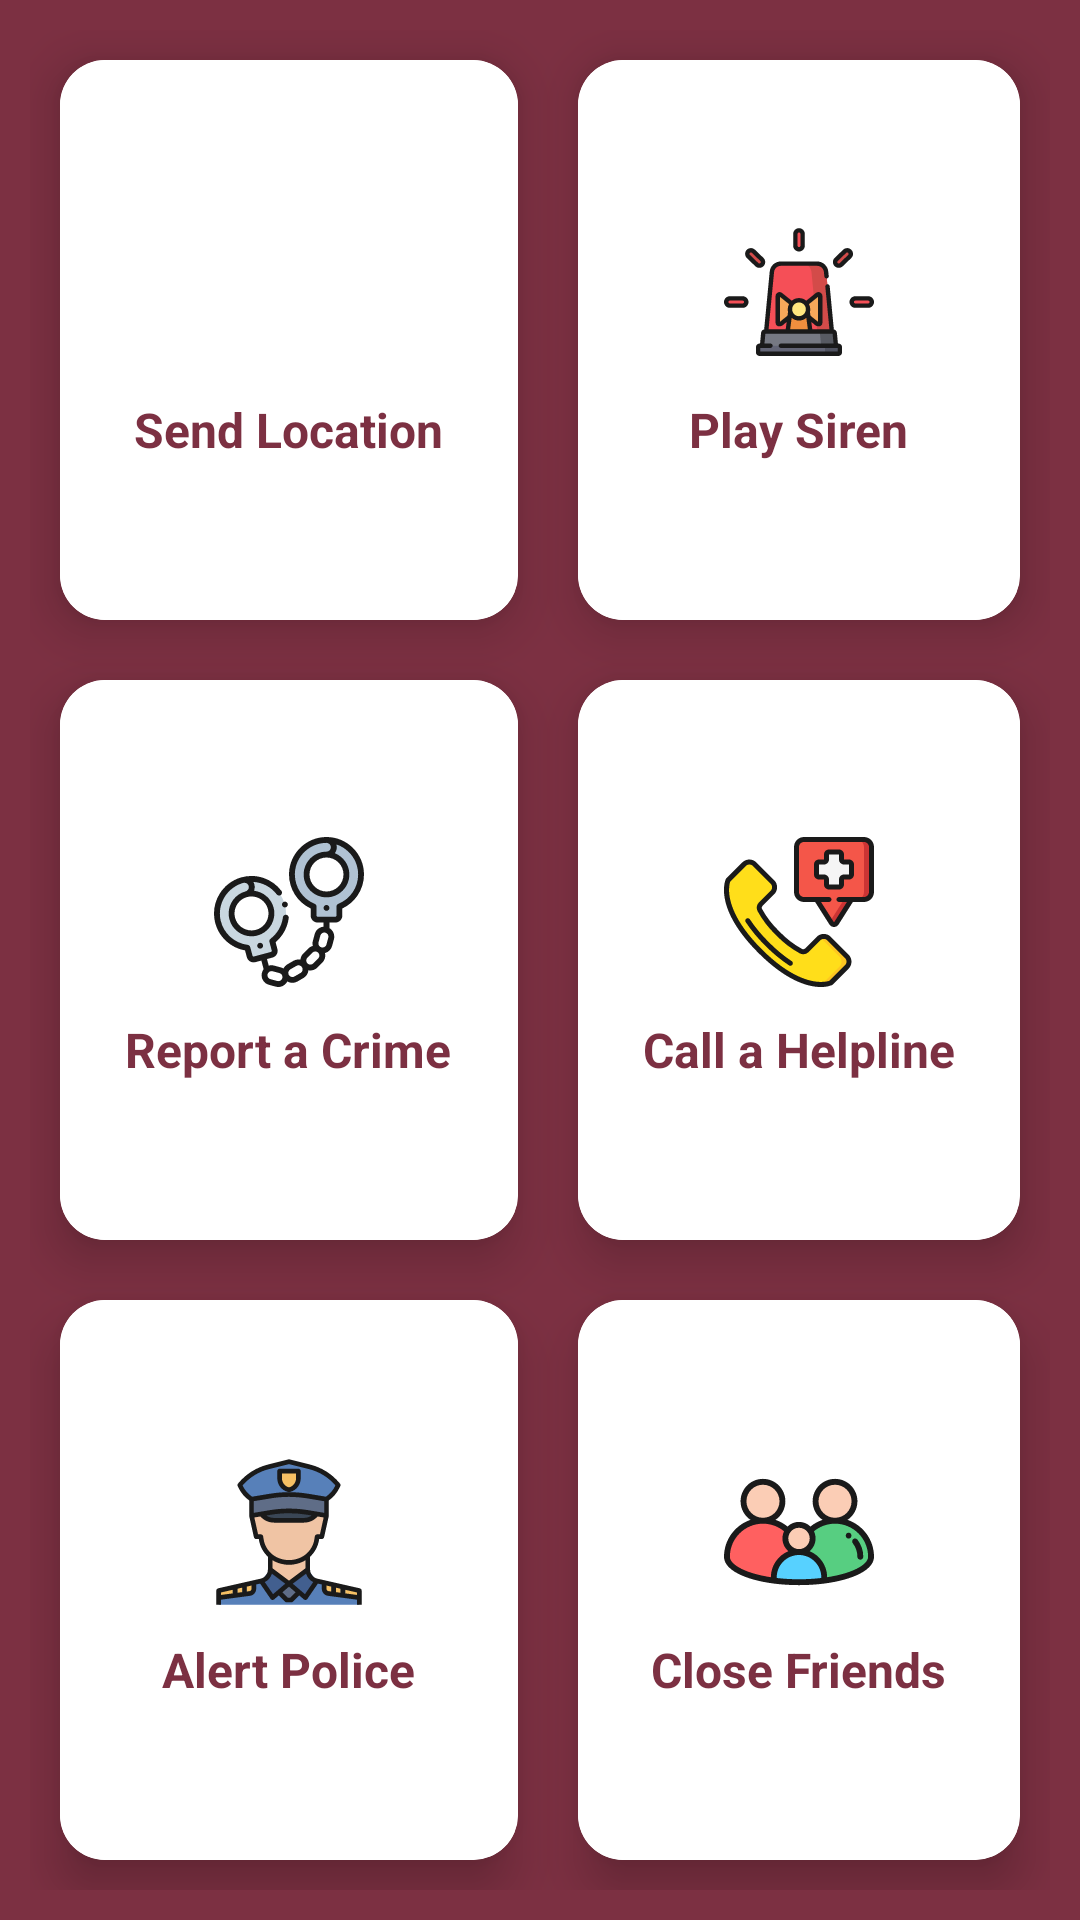

Icon click points for this 1080x1920 phone screenshot, format (x=x, y=y):
emergency contacts: (x=799, y=1532)
